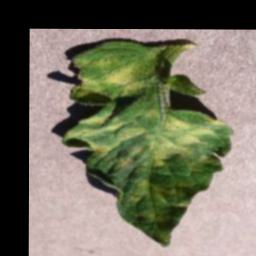Leaf_Mold: (63, 109, 225, 173), (69, 54, 146, 101)
